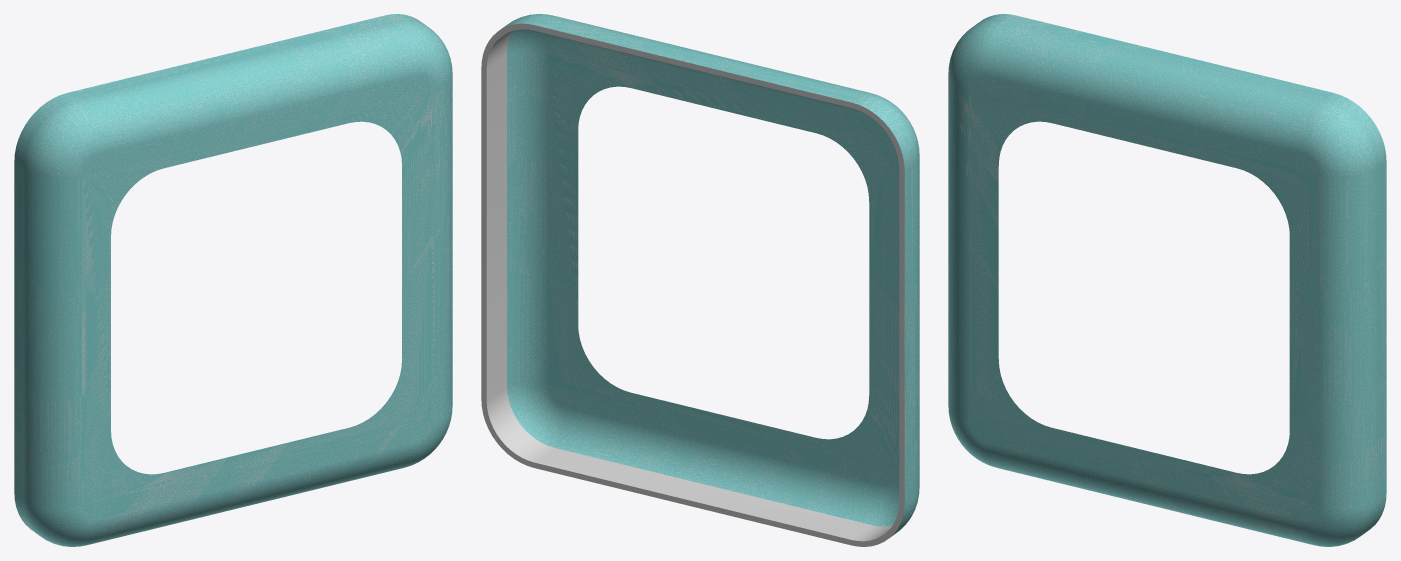
The model's file is original-1.obj.
3 views of the same model, side by side, from view 1: azimuth 30°, elevation 25°; view 2: azimuth 150°, elevation 25°; view 3: azimuth 330°, elevation 25° (orthographic).
Parts seen in each view (by area): view 1: Group1/mesh1/mesh1-geometry#mesh1-geometry; view 2: Group1/mesh1/mesh1-geometry#mesh1-geometry; view 3: Group1/mesh1/mesh1-geometry#mesh1-geometry.
Part boxes in pixels (bbox=[...]): Group1/mesh1/mesh1-geometry#mesh1-geometry: bbox=[14, 14, 452, 546]; Group1/mesh1/mesh1-geometry#mesh1-geometry: bbox=[481, 14, 919, 546]; Group1/mesh1/mesh1-geometry#mesh1-geometry: bbox=[948, 14, 1386, 546].
Size of the model in its own units: 1.51 by 1.51 by 0.1892.
